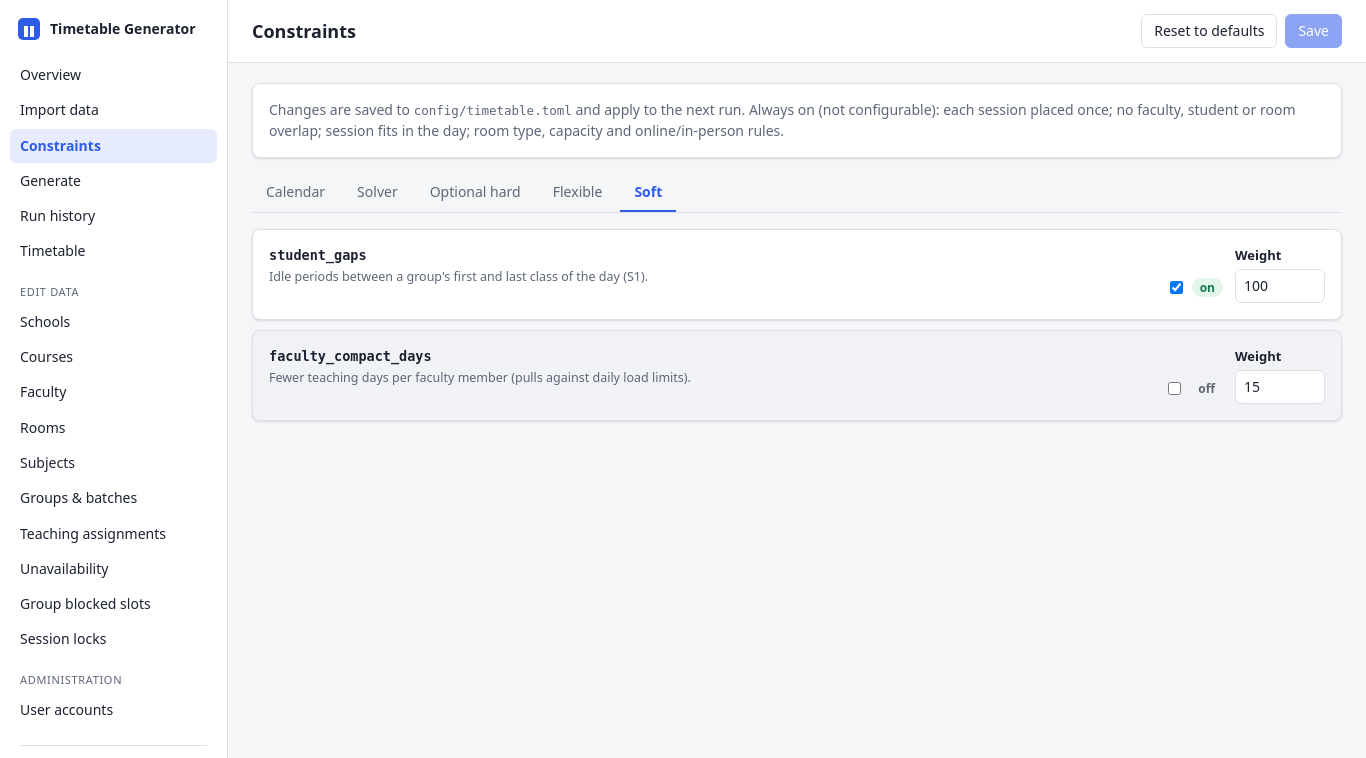
Test: constraints page › edits a constraint and saves the whole config
Click the checkbox named "faculty_compact_days enabled".
click(1175, 388)  # box [1168,382,1181,395]
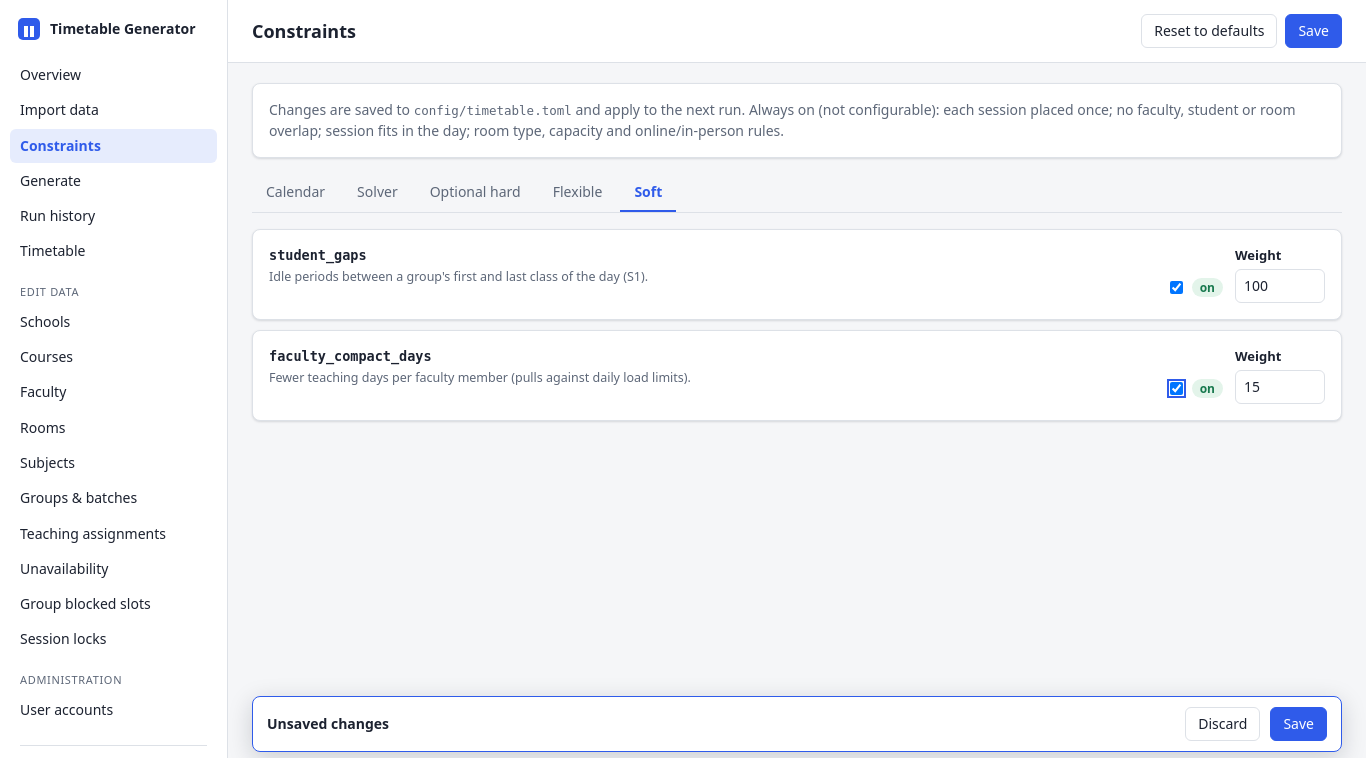
Replace the text in the 2nd number field labelled "Weight" with "7" at (1280, 387), box [1235,370,1325,404]
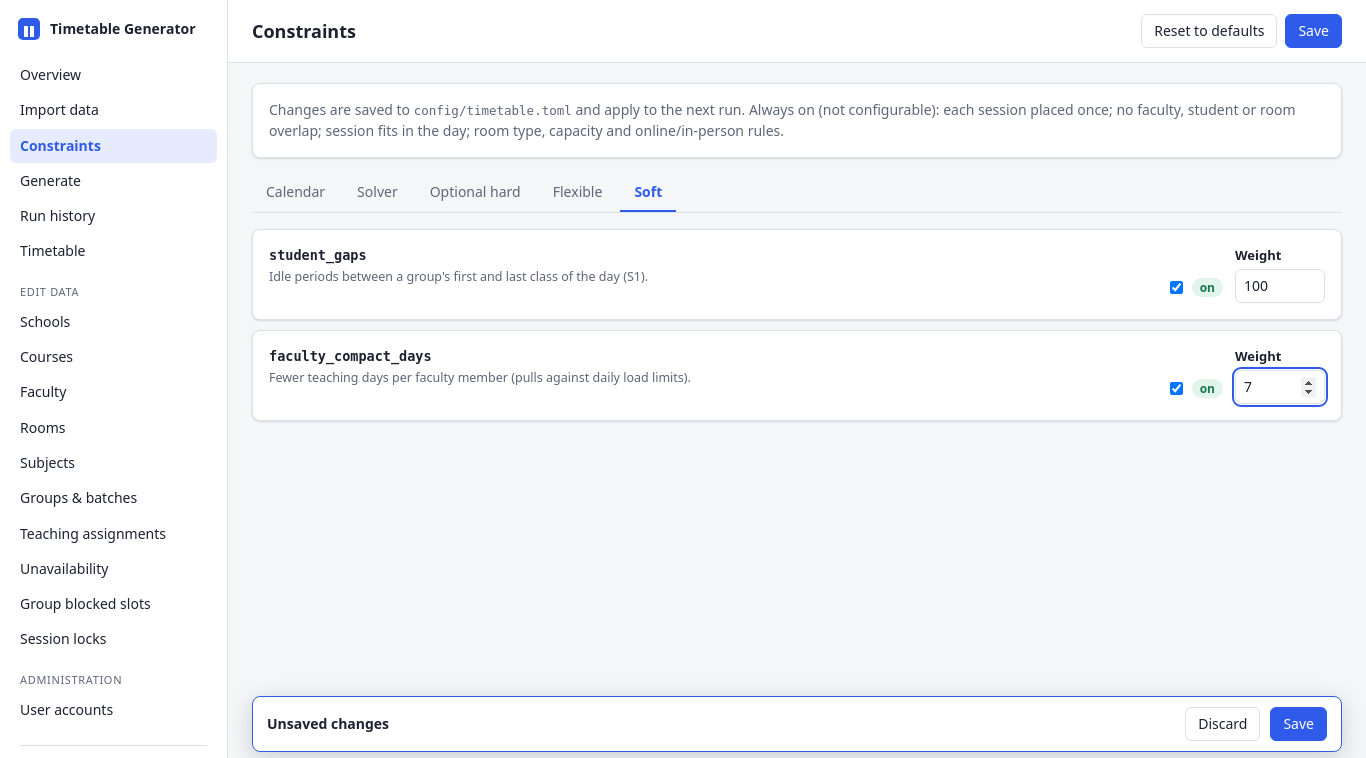
Check: the text "Unsaved changes" is shown, box [267,714,389,734]
Click the 1st button "Save".
click(1314, 31)  # box [1285,14,1342,48]
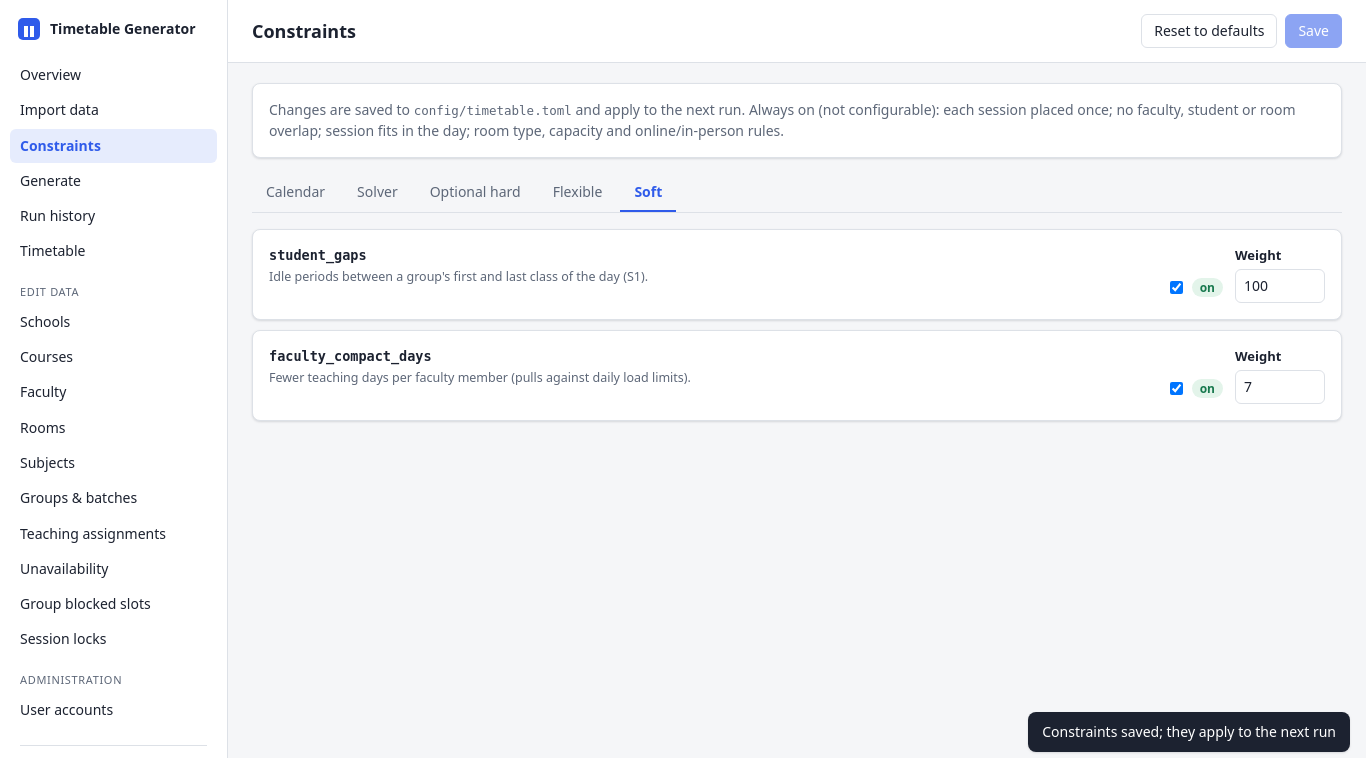
Check: the text "Unsaved changes" is gone
